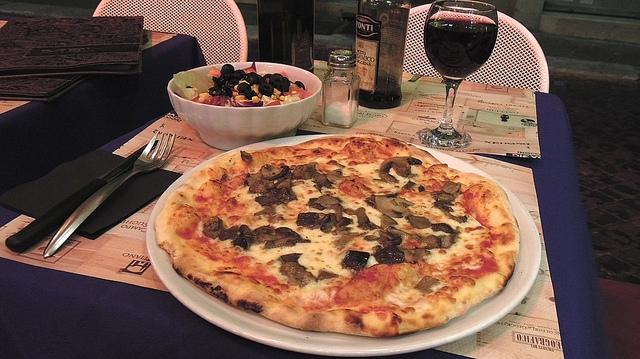mushroom: (378, 156, 423, 184), (265, 227, 311, 249), (280, 262, 318, 288), (375, 195, 415, 218), (431, 200, 467, 223), (372, 244, 406, 264), (340, 250, 370, 272), (202, 215, 228, 240), (297, 212, 331, 230), (233, 224, 253, 251), (432, 182, 461, 200), (260, 165, 290, 181), (292, 164, 316, 180), (311, 172, 335, 188), (248, 179, 270, 195), (406, 216, 432, 229), (326, 169, 351, 182), (315, 194, 339, 207), (422, 234, 441, 250), (381, 215, 398, 232), (270, 186, 290, 200), (317, 270, 340, 282), (378, 230, 394, 245), (440, 233, 456, 248), (356, 207, 370, 224), (334, 217, 354, 228), (357, 222, 381, 231), (240, 150, 252, 164), (328, 212, 336, 222)
